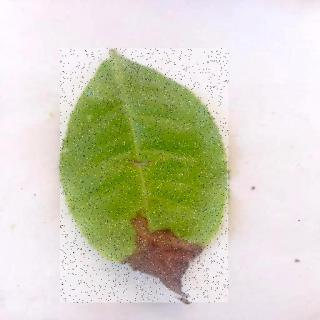Brown Blight: (61, 49, 230, 304)
